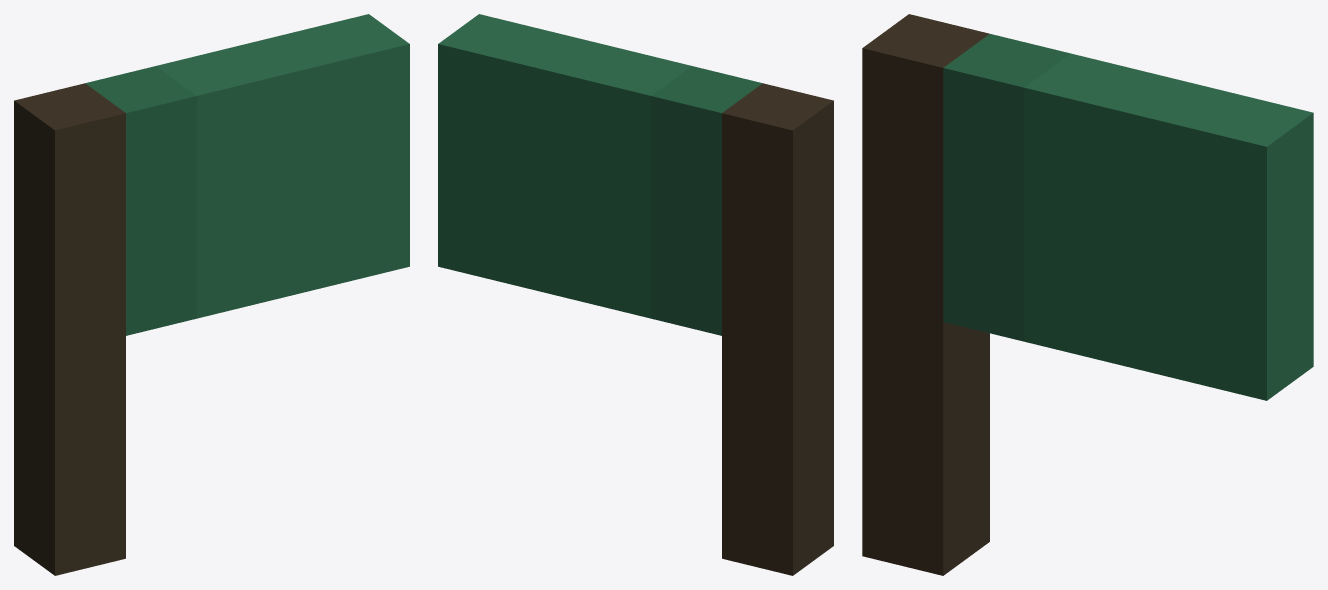
The model's file is overworld-4-props_flaggreen.obj.
3 views of the same model, side by side, from view 1: azimuth 30°, elevation 25°; view 2: azimuth 150°, elevation 25°; view 3: azimuth 330°, elevation 25° (orthographic). The views are drawn at different scales.
Parts seen in each view (by area): view 1: props_flaggreen; view 2: props_flaggreen; view 3: props_flaggreen.
Part boxes in pixels (left/top/right/bottom): props_flaggreen: left=14, top=14, right=409, bottom=575; props_flaggreen: left=438, top=14, right=833, bottom=575; props_flaggreen: left=862, top=14, right=1313, bottom=575.
Size of the model in its own units: 0.5 by 0.6 by 0.1.
1 material, 1 textured.
